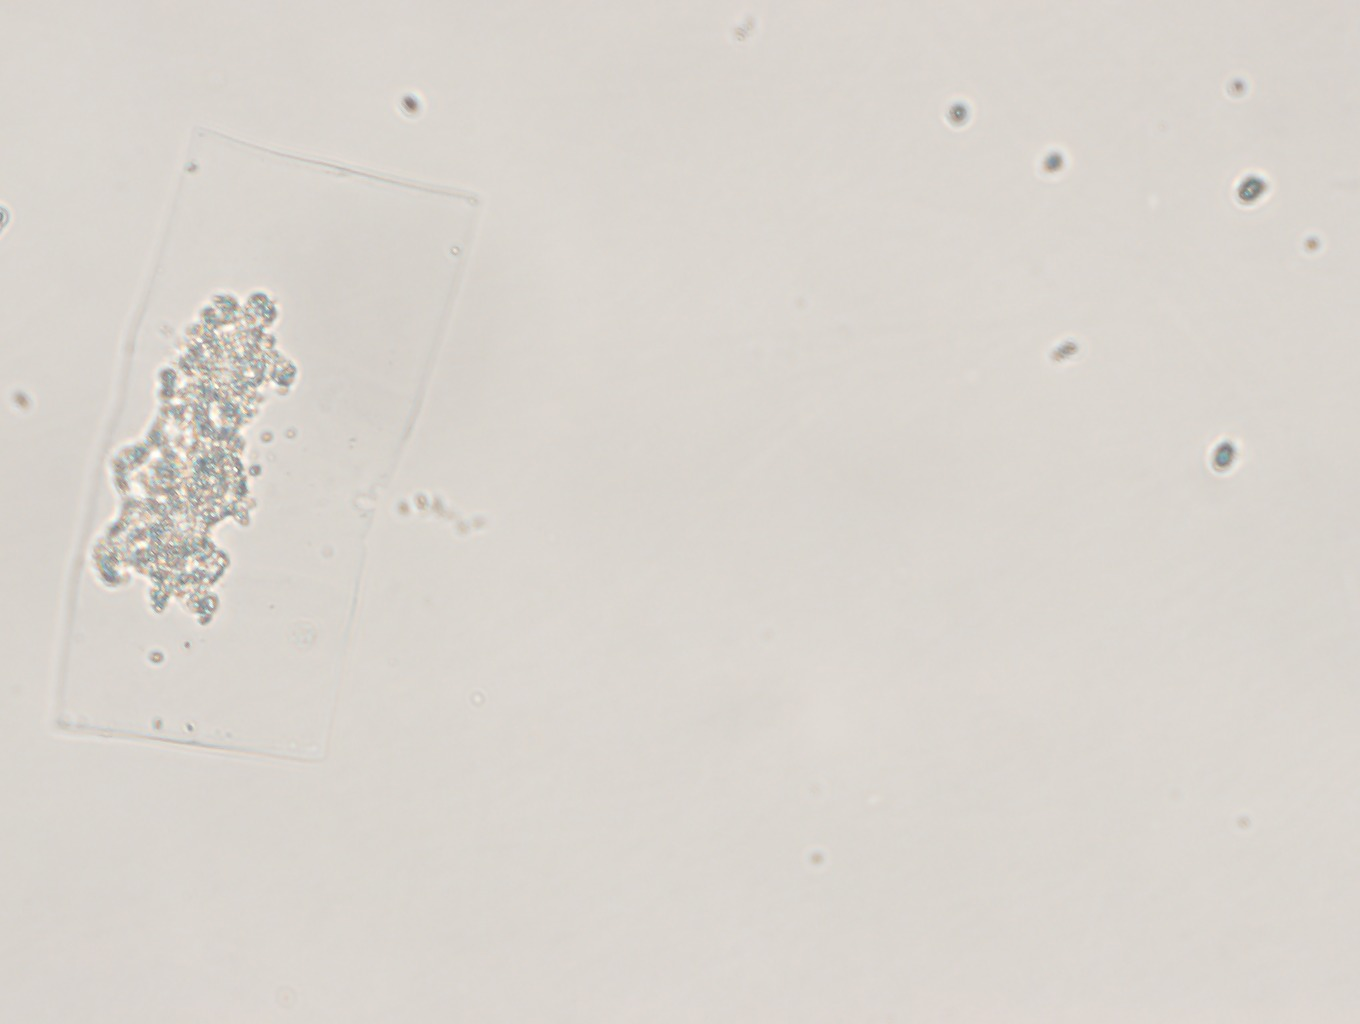helicotheca: (42, 118, 483, 758)
